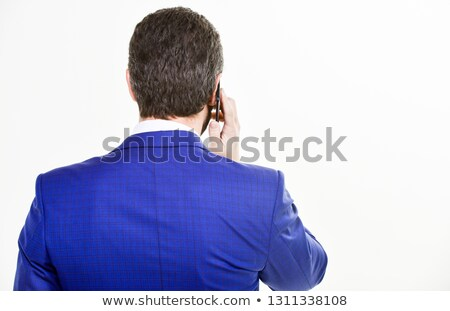phone: (211, 79, 235, 135)
